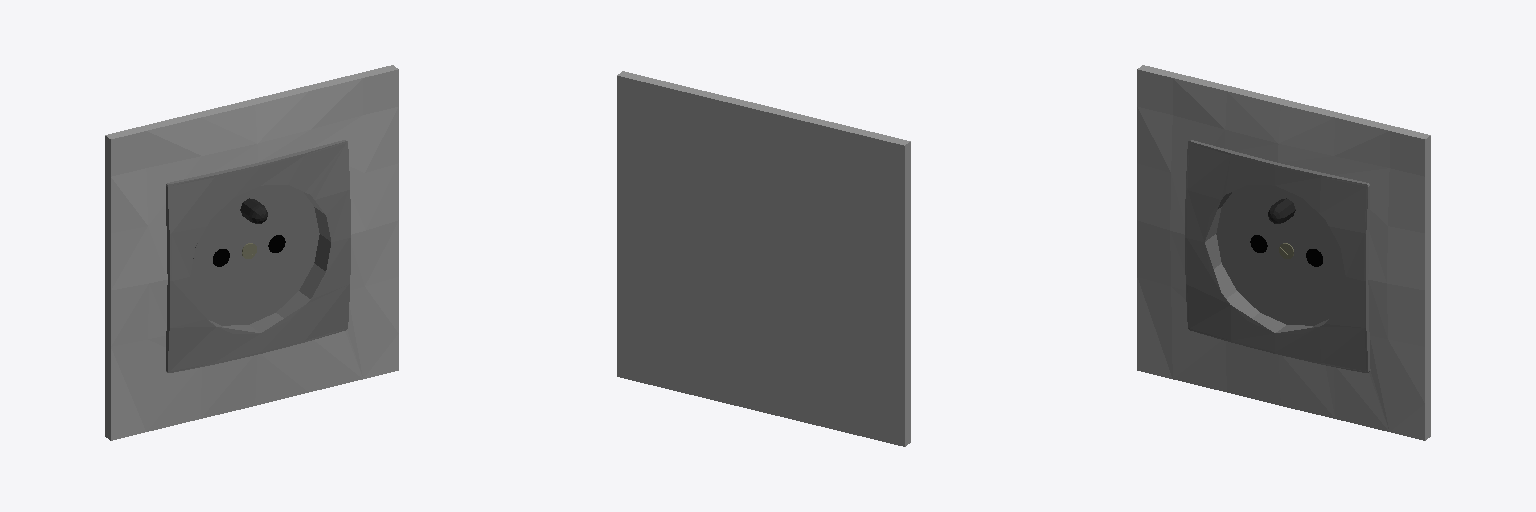
Rendered from square-plug-TypeE.obj.
3 views of the same model, side by side, from view 1: azimuth 30°, elevation 25°; view 2: azimuth 150°, elevation 25°; view 3: azimuth 330°, elevation 25° (orthographic).
Visible parts, largest first — view 1: plug_Cube.001; view 2: plug_Cube.001; view 3: plug_Cube.001.
Part boxes in pixels (bbox=[...]): plug_Cube.001: bbox=[105, 65, 398, 440]; plug_Cube.001: bbox=[617, 71, 910, 446]; plug_Cube.001: bbox=[1137, 65, 1430, 440].
Size of the model in its own units: 8.5 by 8.5 by 0.7361.